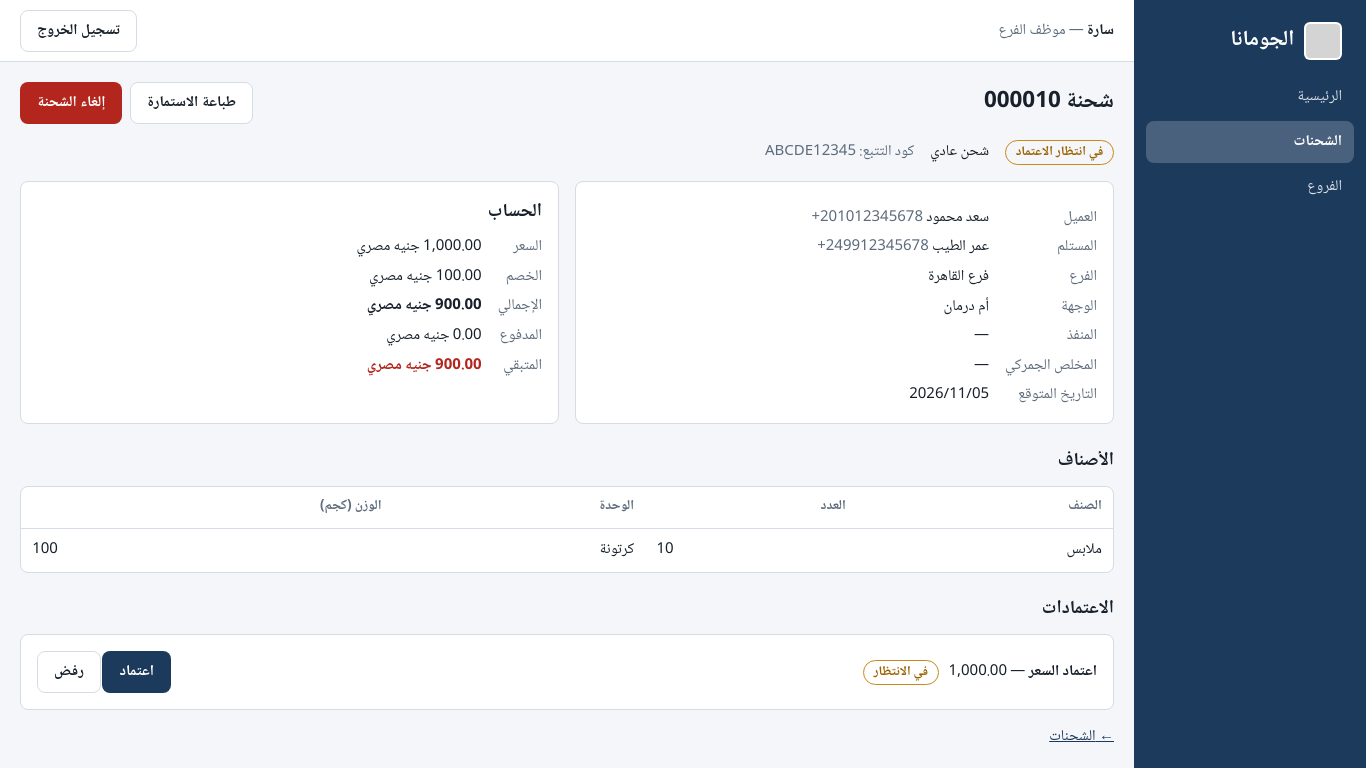
shipment file › requires a reason to reject
Click the button "رفض" at (69,672), box [37,651,101,693]
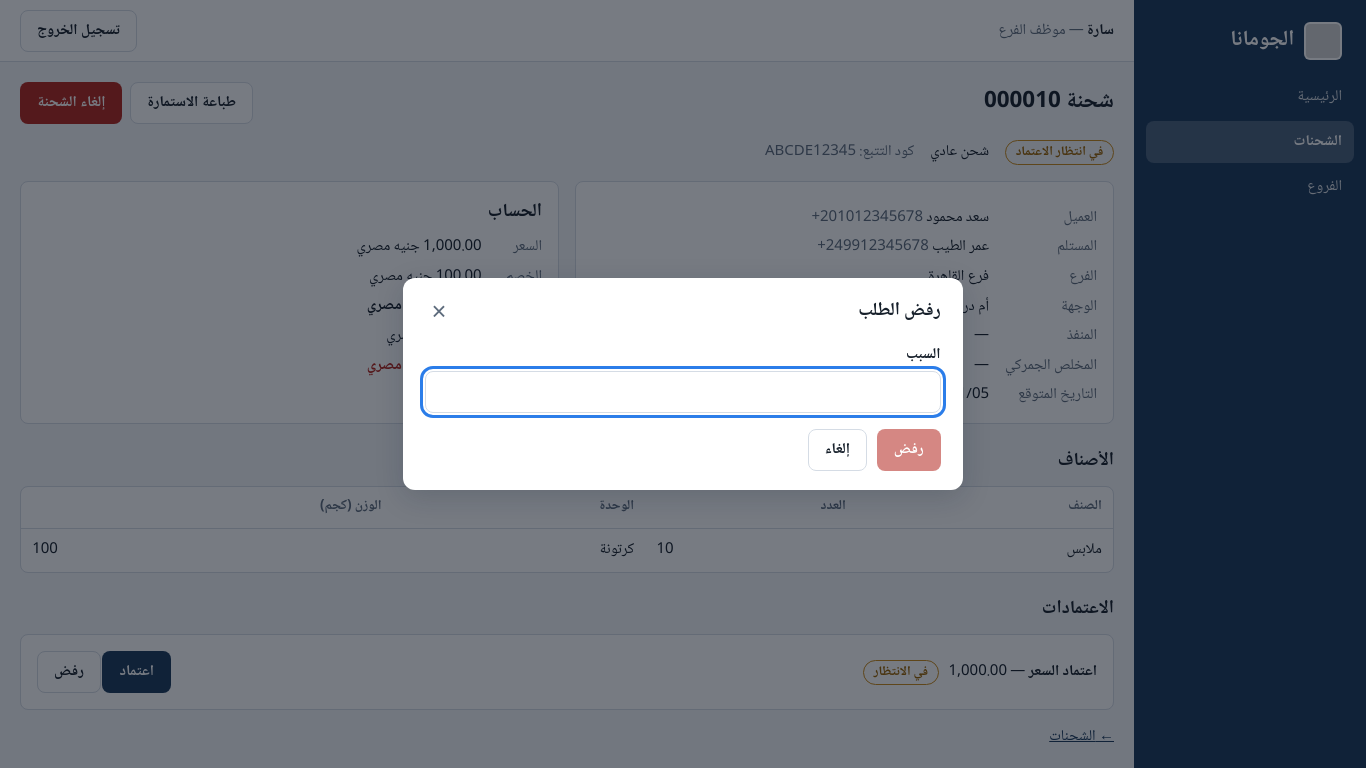
expect the button "رفض" is disabled: met, box [877,429,941,471]
Type "السعر غير مناسب" into the field labelled "السبب" at (683,392), box [425,371,941,413]
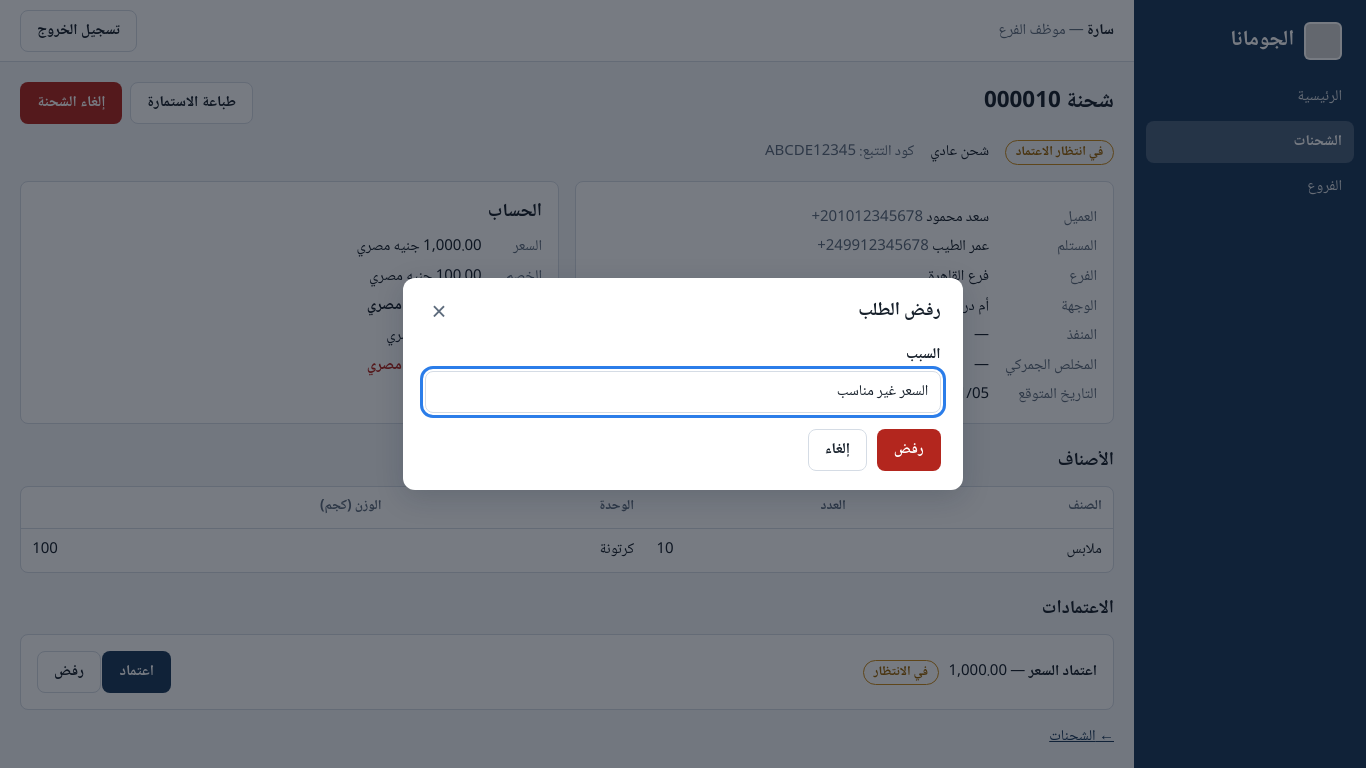
Click the button "رفض" at (909,450), box [877,429,941,471]
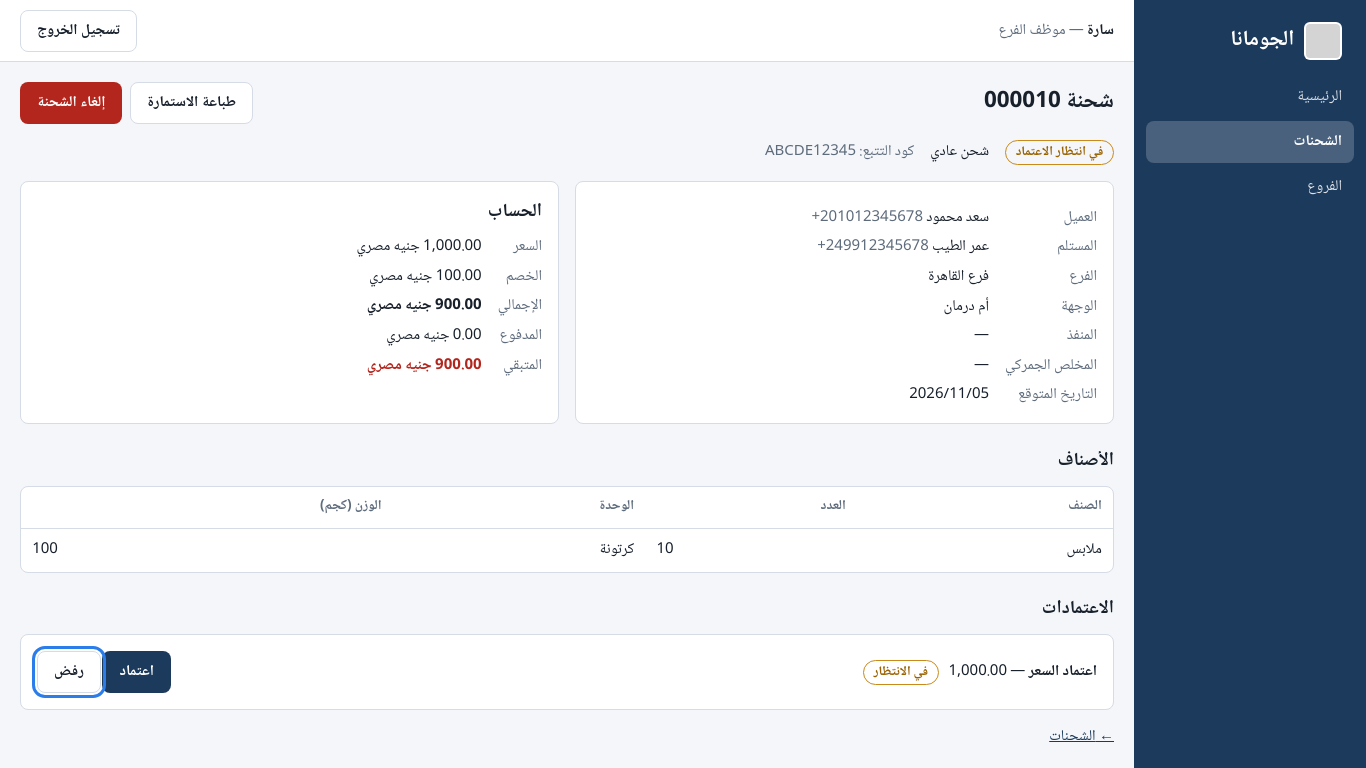
expect the dialog is gone: met
